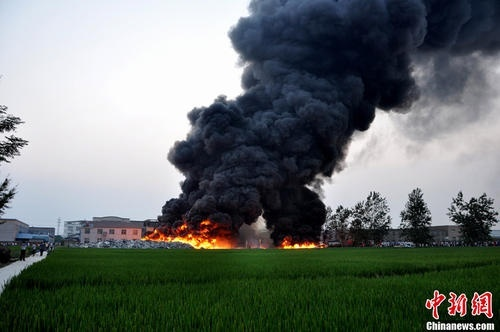fire: (140, 219, 234, 247), (279, 237, 328, 251)
